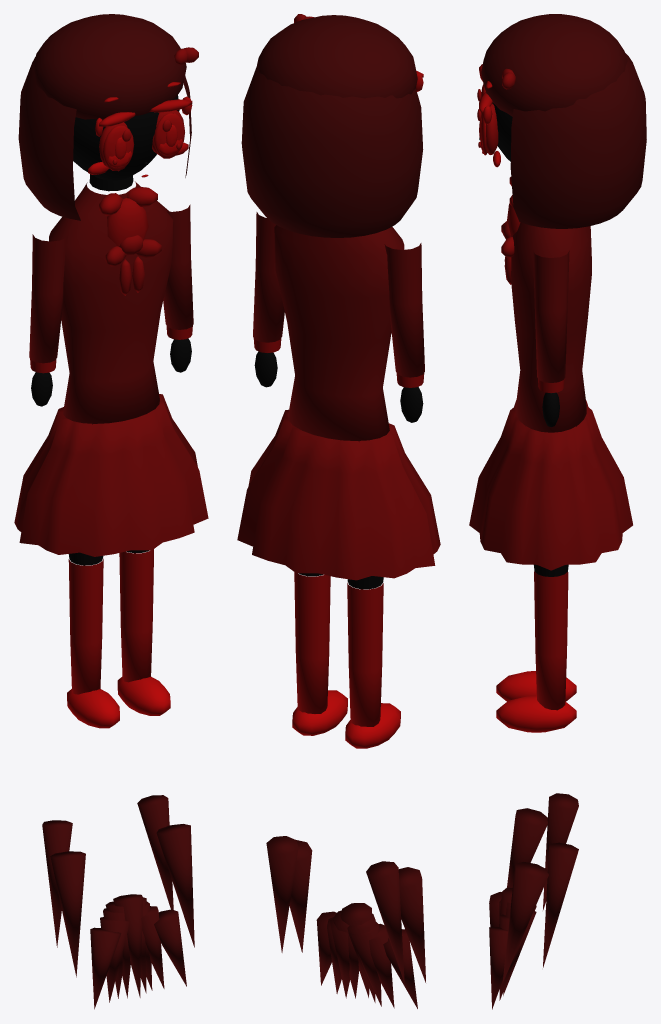
The model's file is girl_sakura.glb.
The picture shows the model from 3 angles, left to right: view 1: azimuth 30°, elevation 25°; view 2: azimuth 150°, elevation 25°; view 3: azimuth 270°, elevation 25°; orthographic projection. The views are drawn at different scales.
Parts seen in each view (by area): view 1: body, legl, legr, arml, armr; view 2: body, legl, legr, arml, armr; view 3: body, legr, armr, legl.
Boxes of the visible parts, x1,y1,x2,y2 form: body: (14,14,208,1009); legl: (67,552,119,728); legr: (117,549,170,715); arml: (29,234,67,406); armr: (163,204,193,372); body: (237,14,440,1008); legl: (345,576,400,748); legr: (292,572,347,735); arml: (384,243,424,422); armr: (253,212,284,387); body: (469,14,646,1009); legr: (496,564,576,732); armr: (533,250,569,427); legl: (496,571,576,701).
Size of the model in its own units: 0.7276 by 3.6 by 0.6022.
